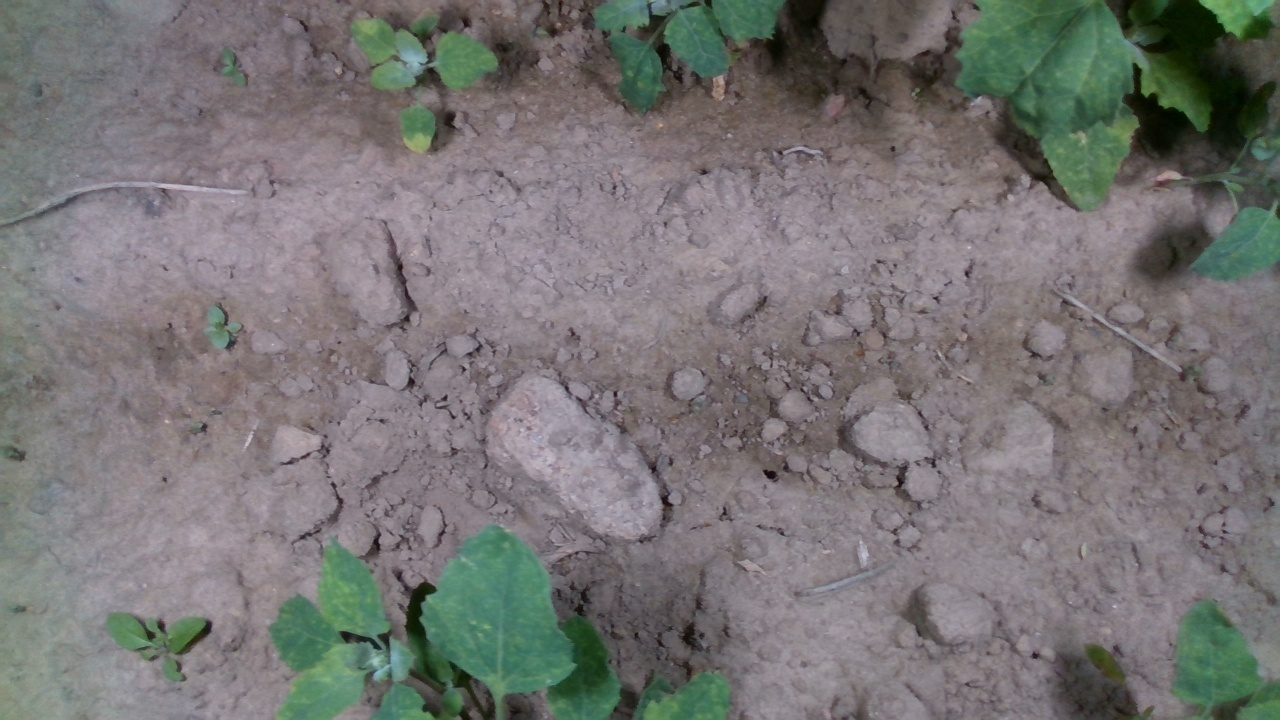weed: (193, 300, 237, 354), (217, 44, 251, 91)
